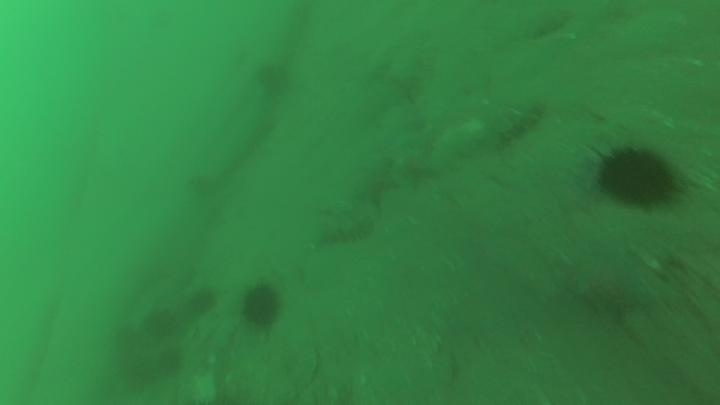echinus: (592, 142, 681, 212), (239, 280, 285, 332), (254, 58, 294, 99), (141, 305, 180, 340), (186, 285, 219, 317), (154, 345, 186, 378)
holothurian: (493, 97, 549, 149), (314, 213, 377, 249)
starfish: (569, 251, 658, 329), (351, 156, 402, 211)
